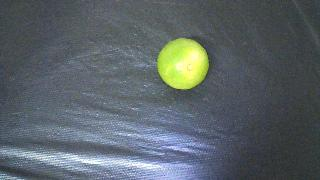LOCAL: (157, 38, 209, 90)
